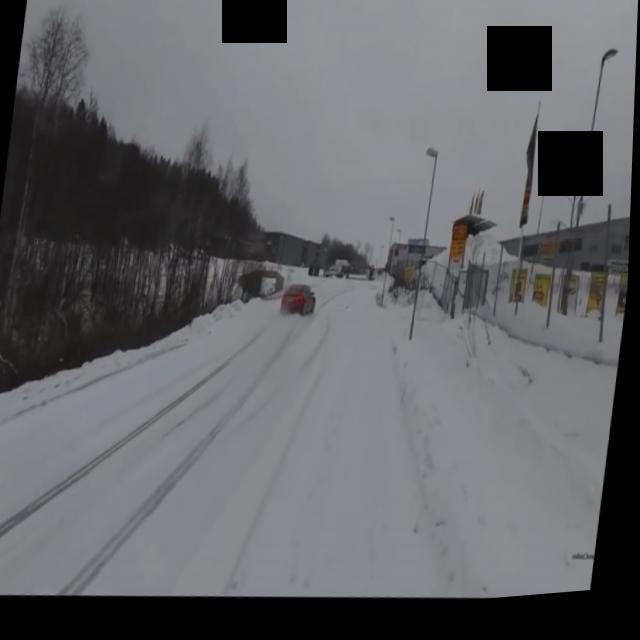Pole: (574, 51, 625, 258), (405, 151, 441, 350), (378, 218, 400, 318)
Vehicle: (279, 280, 322, 329)
